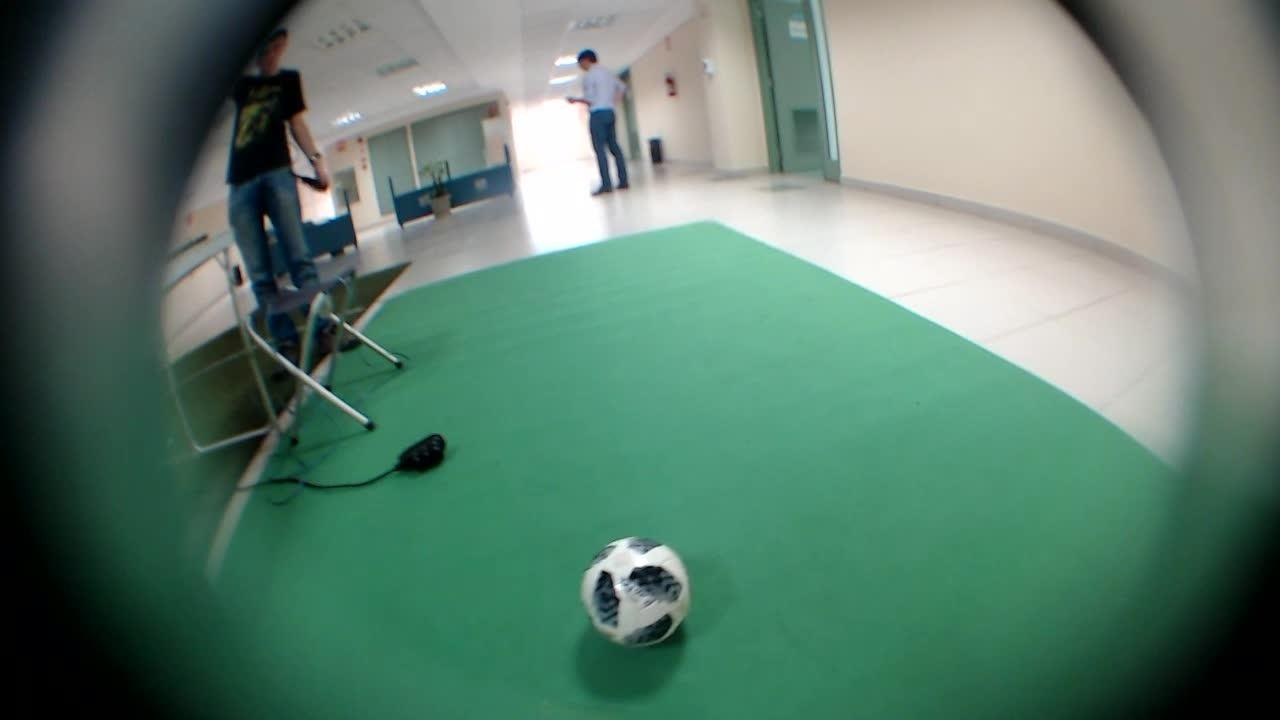ball: (566, 517, 707, 661)
